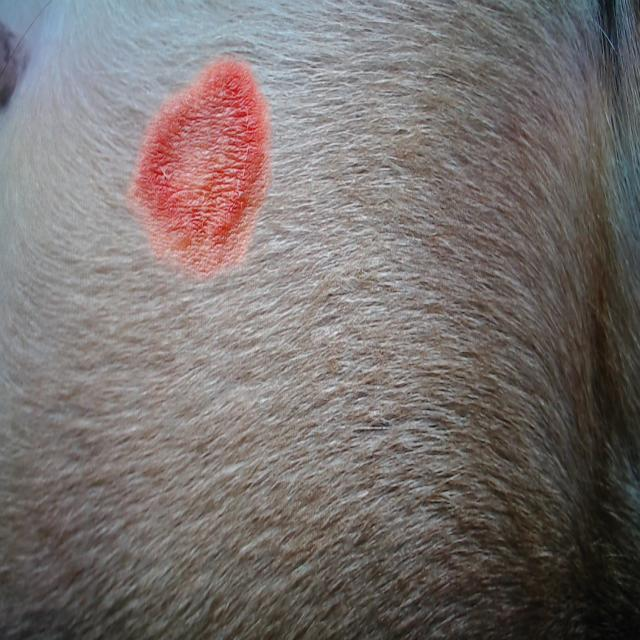ringworm: (125, 12, 285, 300)
